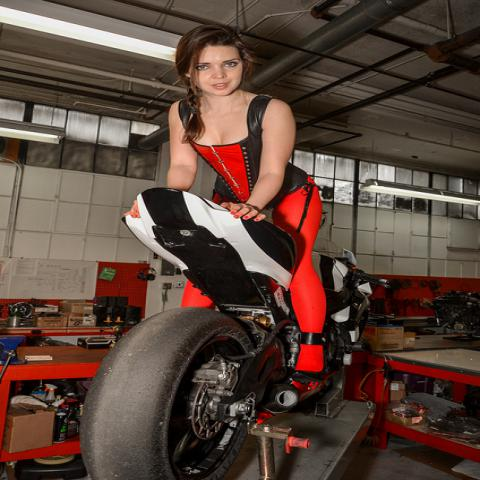motorcycle: (79, 187, 392, 479)
